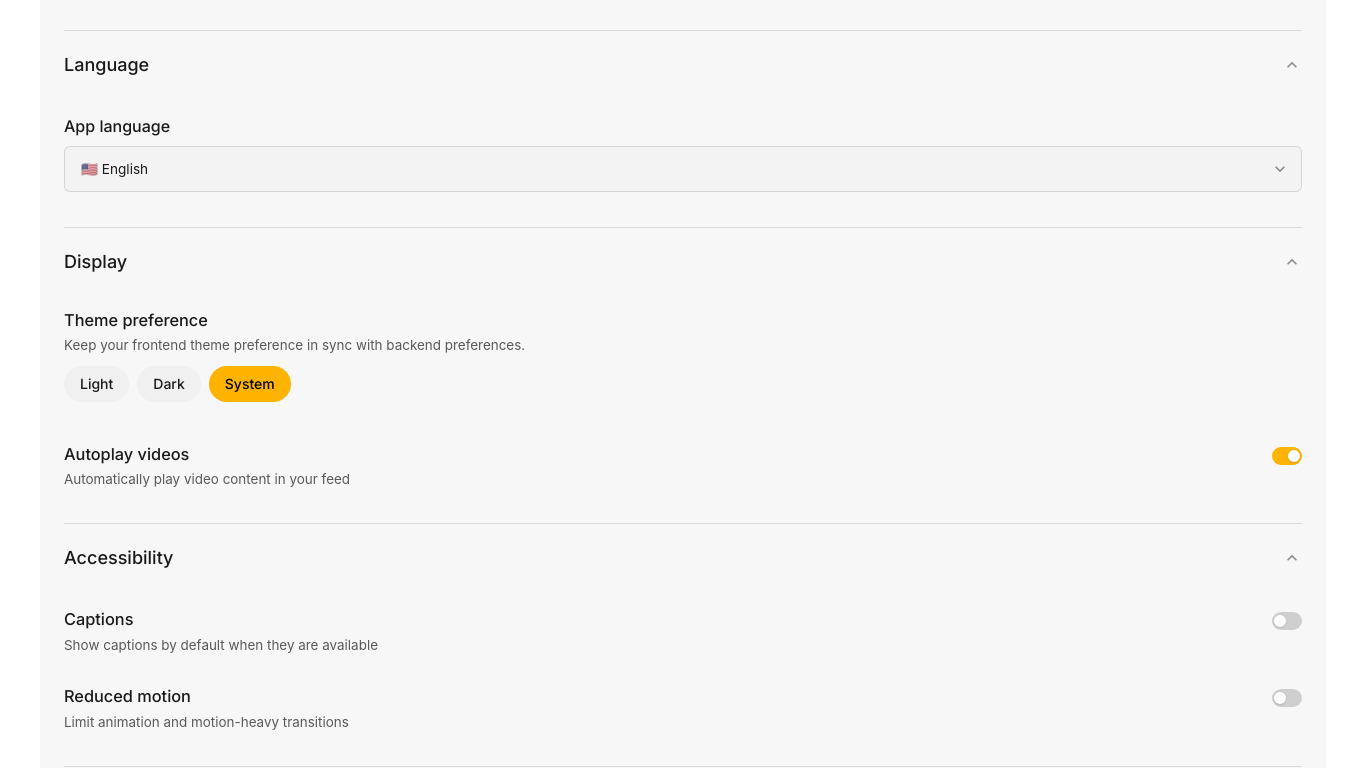
Settings › persists display theme changes and accessibility toggles
The width and height of the screenshot is (1366, 768).
(page scrolled)
Expected: the dropdown is shown, [64,146,1302,192]
Click the button "Dark".
click(169, 384)  # box [137,366,201,402]
(page scrolled)
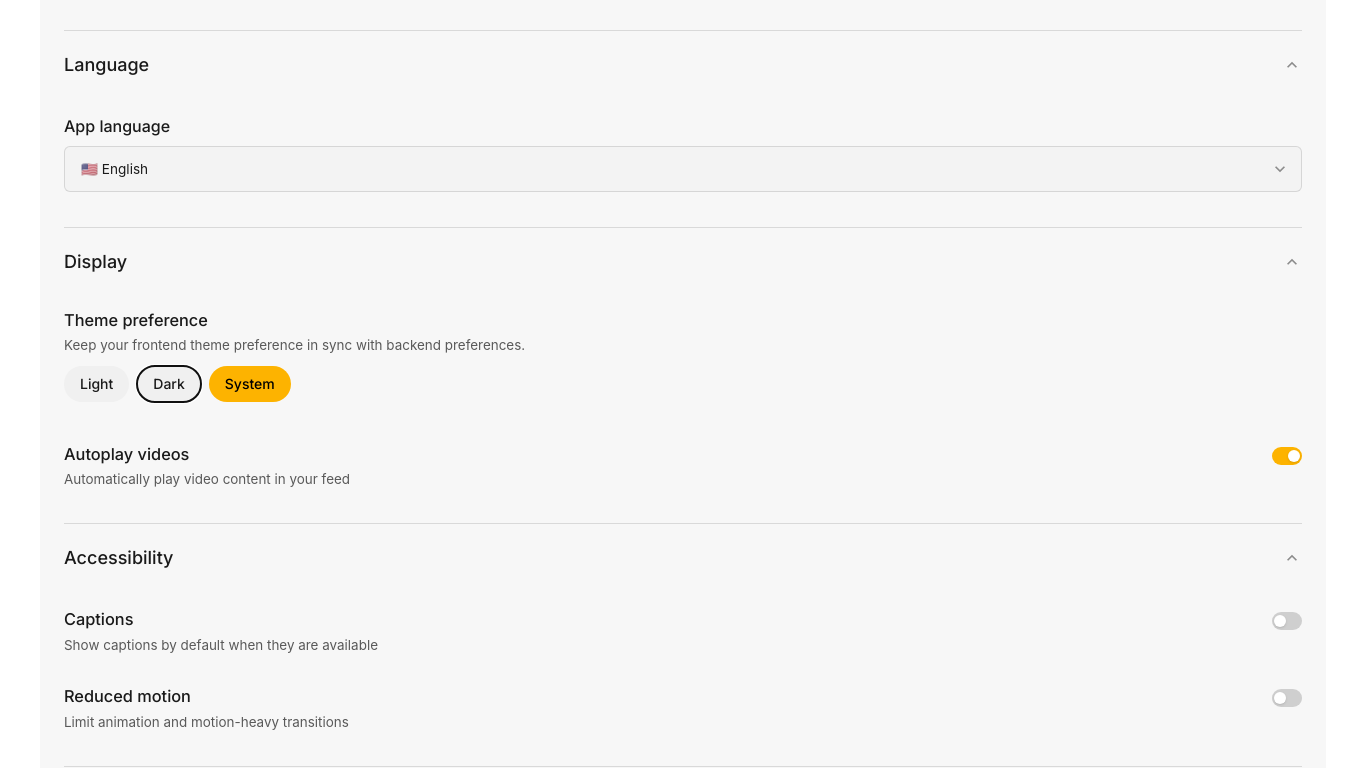
Click the 2nd switch.
click(1287, 622)  # box [1272,612,1302,630]
(page scrolled)
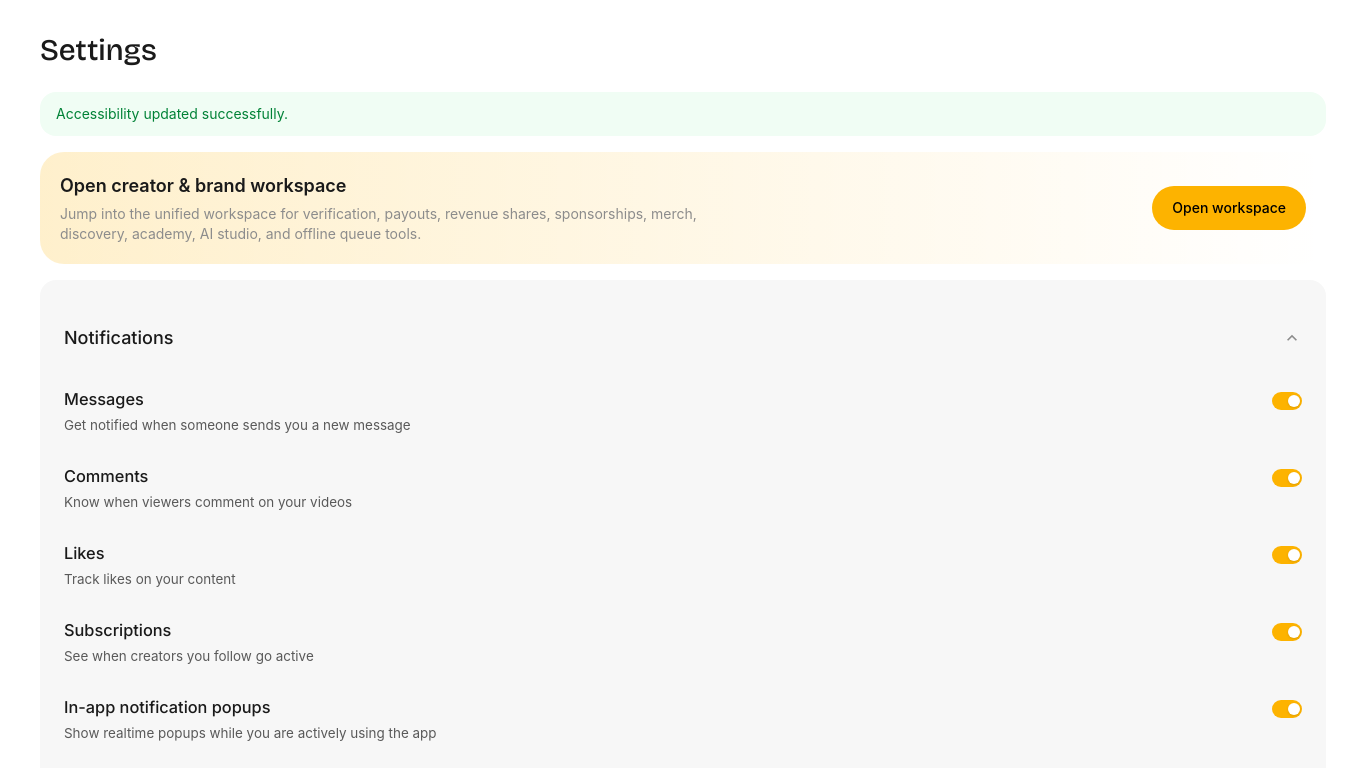
Now the text "Accessibility updated successfully." is shown, box [40,92,1326,136]
